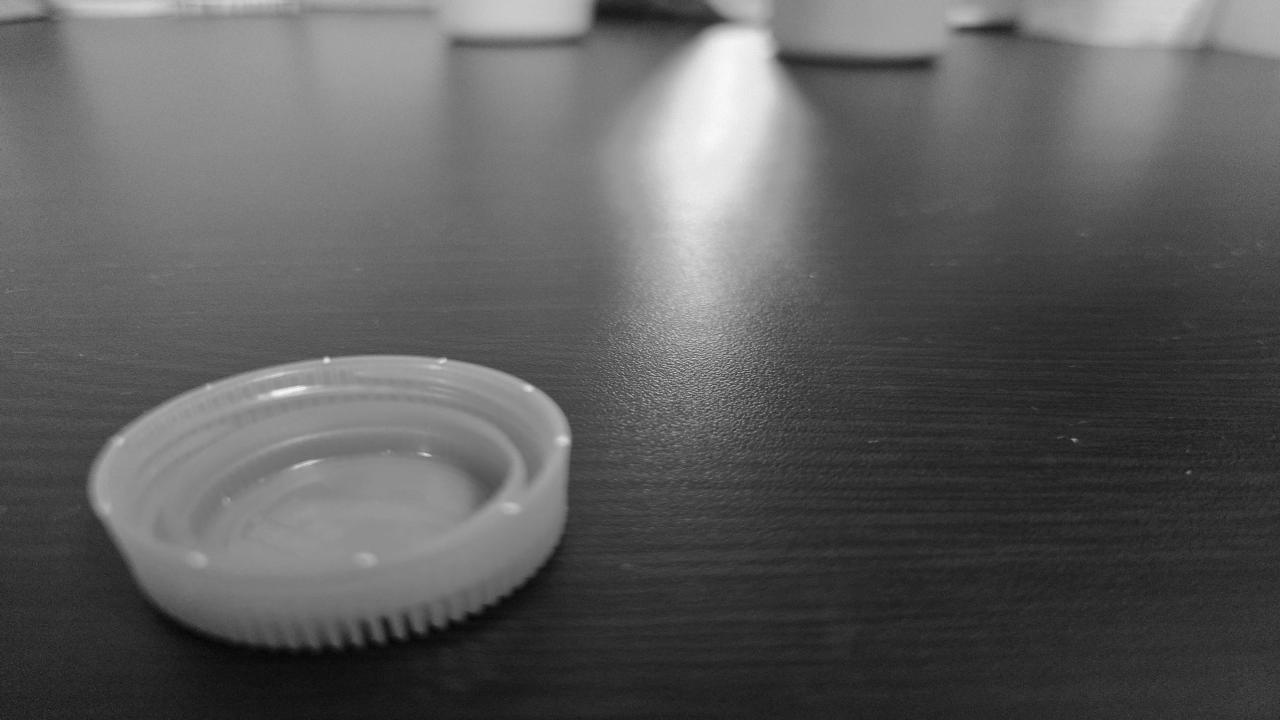bottle_cap: (80, 348, 587, 656)
